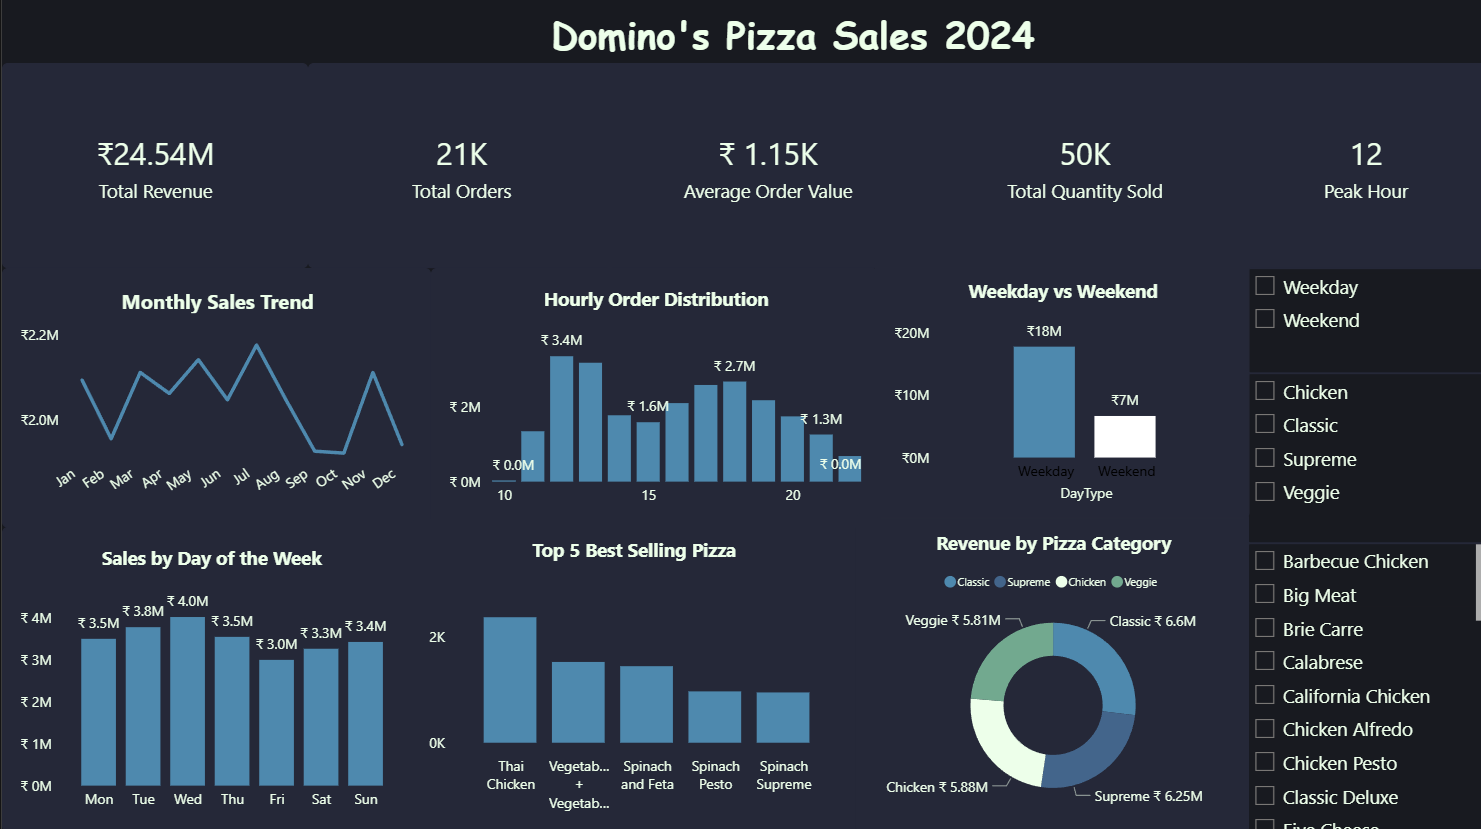

Layout of this report page (visuals, bound fields, positions):
{"tool":"powerbi","page":{"name":"Page 1","canvas":[1280,720],"ordinal":0},"visuals":[{"type":"card","fields":{"Values":["Dataset.Total Revenue"]},"box":[0,56.1,263.9,176.8],"z":0},{"type":"card","fields":{"Values":["Dataset.Total Orders"]},"box":[263.9,56.1,263.9,176.8],"z":1000},{"type":"card","fields":{"Values":["Dataset.Average Order Value"]},"box":[520.1,56.1,280.3,176.8],"z":2000},{"type":"card","fields":{"Values":["Dataset.Total Quantity Sold"]},"box":[787.5,56.1,292.4,176.8],"z":3000},{"type":"card","fields":{"Values":["Dataset.Peak Hour"]},"box":[1072.1,56.1,207.9,176.8],"z":4000},{"type":"textbox","box":[450.2,8.6,464,56.1],"z":5000},{"type":"lineChart","title":"Monthly Sales Trend","fields":{"Y":["Dataset.Total Revenue"],"Category":["Dataset.MonthName"]},"box":[0,232.9,370,224.3],"z":6000},{"type":"columnChart","title":"Sales by Day of the Week","fields":{"Category":["Dataset.dayname"],"Y":["Dataset.Sales by Day"]},"box":[0,456.3,359.7,263.1],"z":7000},{"type":"columnChart","title":"Hourly Order Distribution","fields":{"Y":["Dataset.Sales by Hour"],"Category":["Dataset.Hour"]},"box":[370,232.9,386.4,224.3],"z":8000},{"type":"donutChart","title":"Revenue by Pizza Category","fields":{"Category":["Dataset.pizza_category"],"Y":["Dataset.Revenue by Category"]},"box":[736.6,443.3,339,276.9],"z":9000},{"type":"columnChart","title":"Top 5 Best Selling Pizza ","fields":{"Category":["Dataset.pizza_name"],"Y":["Dataset.Quantity by Pizza"]},"box":[351.9,449.4,384.7,270],"z":10000},{"type":"columnChart","title":"Weekday vs Weekend","fields":{"Category":["Dataset.DayType"],"Y":["Dataset.Total Revenue"]},"box":[753,226,322.6,223.4],"z":11000},{"type":"slicer","fields":{"Values":["Dataset.pizza_category"]},"box":[1072.1,323.5,207.9,147.5],"z":12000},{"type":"slicer","fields":{"Values":["Dataset.DayType"]},"box":[1072.1,232.9,207.9,90.6],"z":13000},{"type":"slicer","fields":{"Values":["Dataset.pizza_name"]},"box":[1072.1,470.1,207.9,249.3],"z":14000}]}

Visuals, with their boxes in screenshot pixels (x1, y1, x2, y2), scaled from the page's 1280x720 canvas onto the 1481x829 screenshot:
card - Dataset.Total Revenue: left=0, top=65, right=305, bottom=268
card - Dataset.Total Orders: left=305, top=65, right=611, bottom=268
card - Dataset.Average Order Value: left=602, top=65, right=926, bottom=268
card - Dataset.Total Quantity Sold: left=911, top=65, right=1249, bottom=268
card - Dataset.Peak Hour: left=1240, top=65, right=1480, bottom=268
textbox: left=521, top=10, right=1058, bottom=74
"Monthly Sales Trend" lineChart: left=0, top=268, right=428, bottom=526
"Sales by Day of the Week" columnChart: left=0, top=525, right=416, bottom=828
"Hourly Order Distribution" columnChart: left=428, top=268, right=875, bottom=526
"Revenue by Pizza Category" donutChart: left=852, top=510, right=1245, bottom=828
"Top 5 Best Selling Pizza " columnChart: left=407, top=517, right=852, bottom=828
"Weekday vs Weekend" columnChart: left=871, top=260, right=1245, bottom=517
slicer - Dataset.pizza_category: left=1240, top=372, right=1480, bottom=542
slicer - Dataset.DayType: left=1240, top=268, right=1480, bottom=372
slicer - Dataset.pizza_name: left=1240, top=541, right=1480, bottom=828
